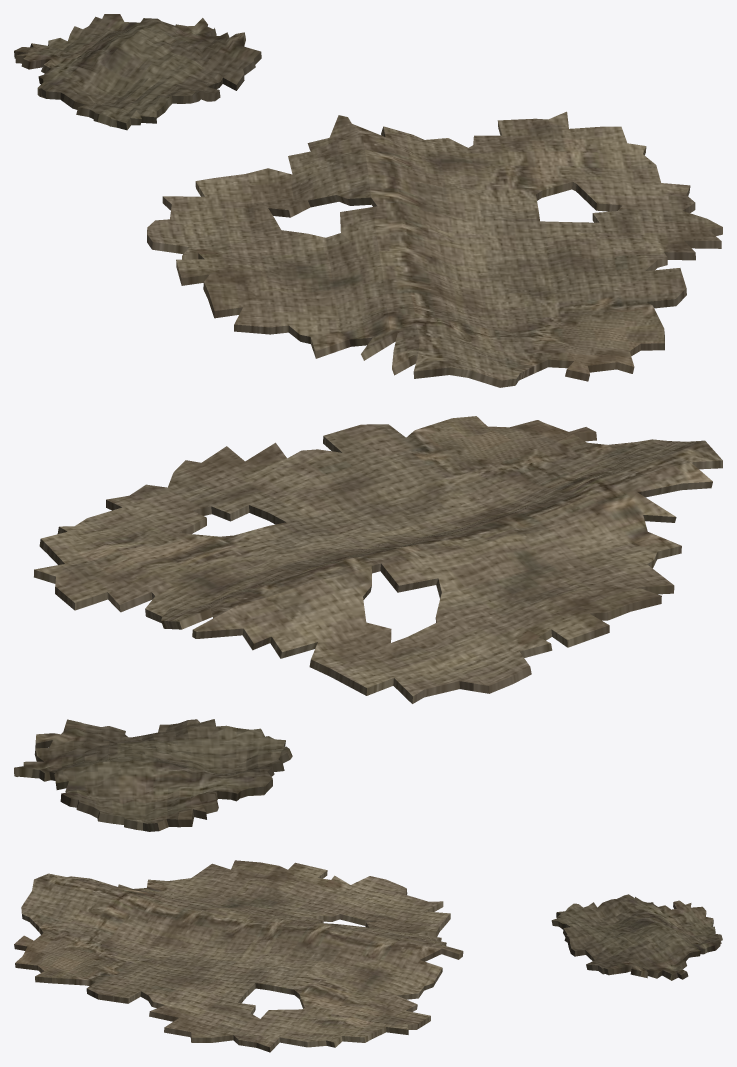
The model's file is junk_rags_c.glb.
3 renders of one model, top to bottom at view 1: azimuth 30°, elevation 25°; view 2: azimuth 150°, elevation 25°; view 3: azimuth 270°, elevation 25°, orthographic. The views are drawn at different scales.
Visible parts, largest first — view 1: model; view 2: model; view 3: model.
Boxes of the visible parts, x1,y1,x2,y2 form: model: [14, 14, 722, 387]; model: [14, 416, 722, 831]; model: [14, 860, 722, 1052].
Bounding box in the file's own units: 0.4236 × 0.0349 × 0.7155.
2 materials, 2 textured.
